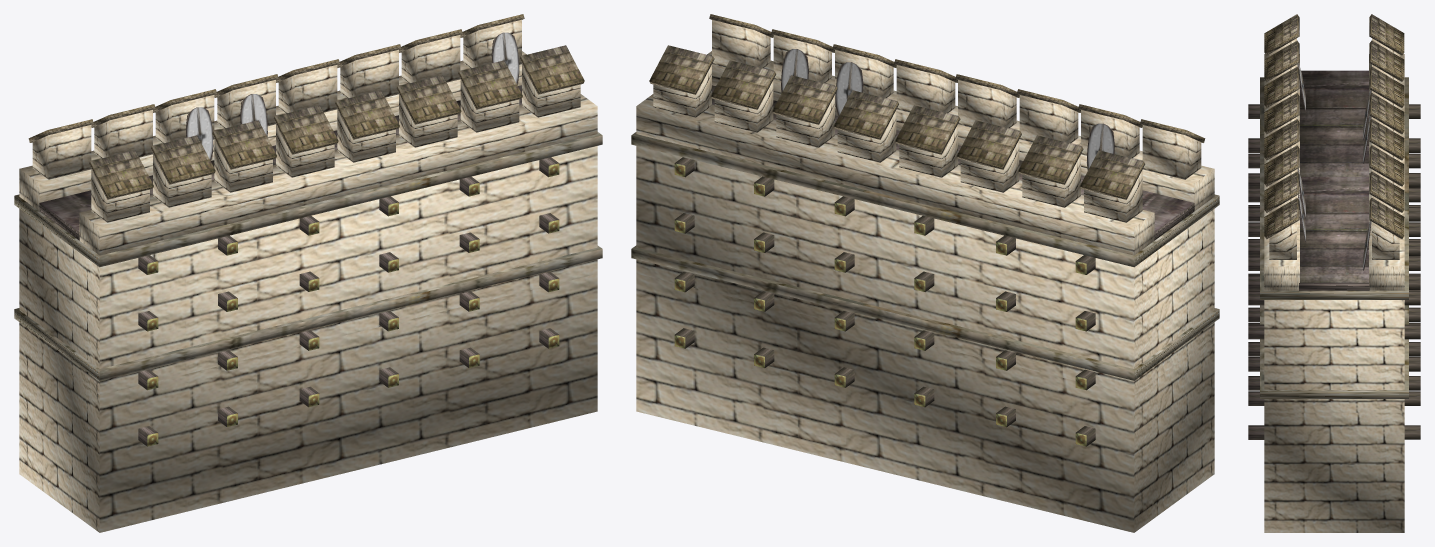
The model's file is wall_long.dae.
3 renders of one model, left to right at view 1: azimuth 30°, elevation 25°; view 2: azimuth 150°, elevation 25°; view 3: azimuth 270°, elevation 25°, orthographic. The views are drawn at different scales.
Visible parts, largest first — view 1: wall_long; view 2: wall_long; view 3: wall_long.
Boxes of the visible parts, x1=… form: wall_long: x1=14, y1=14, x2=602, y2=532; wall_long: x1=631, y1=14, x2=1219, y2=532; wall_long: x1=1248, y1=14, x2=1420, y2=532.
Size of the model in its own units: 23.47 by 7.97 by 15.86.
